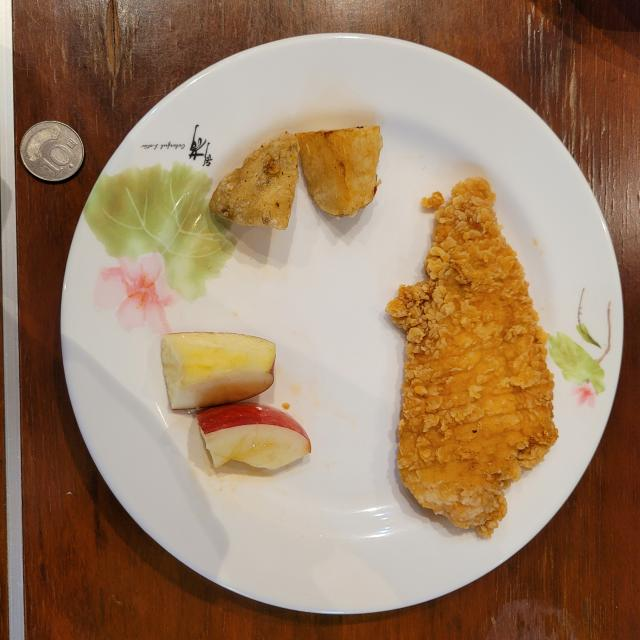apple -sliced-: (161, 332, 311, 470)
coin: (20, 121, 84, 181)
fried chicken cutlet: (386, 178, 558, 538)
fried potato: (209, 126, 382, 230)
